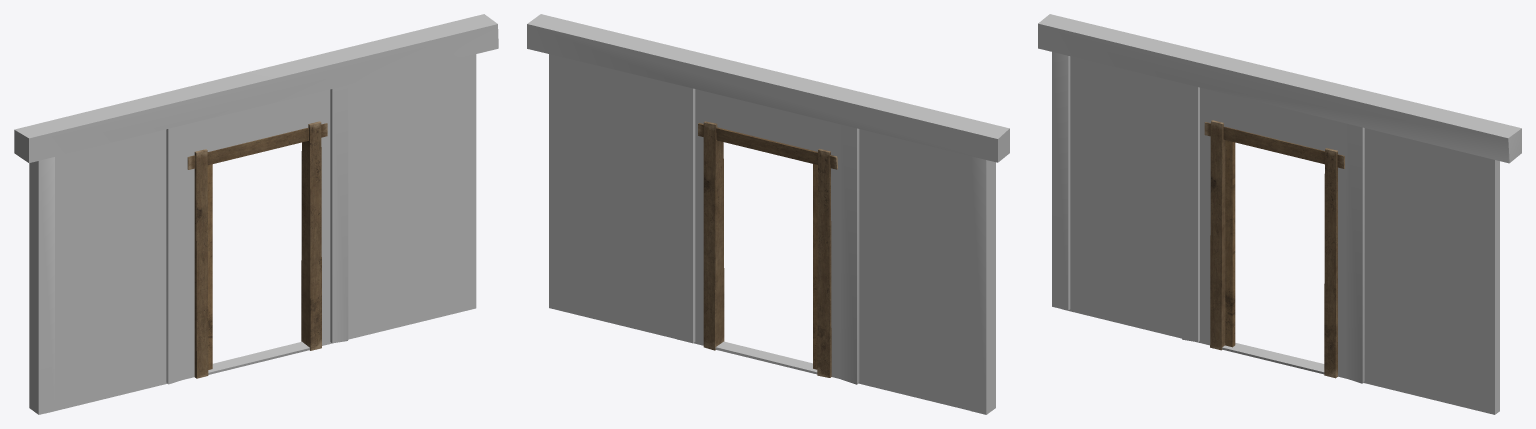
File: SM_WallElement_05_COLL.FBX
The picture shows the model from 3 angles, left to right: view 1: azimuth 30°, elevation 25°; view 2: azimuth 150°, elevation 25°; view 3: azimuth 330°, elevation 25°; orthographic projection.
Parts seen in each view (by area): view 1: SM_WallElement_05_COLL; view 2: SM_WallElement_05_COLL; view 3: SM_WallElement_05_COLL.
Part boxes in pixels (x1,y1,x2,y2): SM_WallElement_05_COLL: (14, 14, 498, 414); SM_WallElement_05_COLL: (527, 14, 1009, 414); SM_WallElement_05_COLL: (1038, 14, 1521, 414).
Bounding box in the file's own units: 5.46 × 3.13 × 0.2745.
